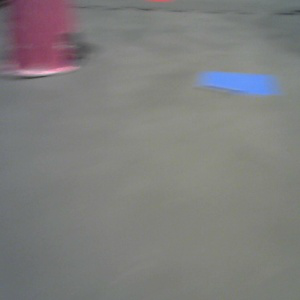middle: (1, 1, 81, 78)
